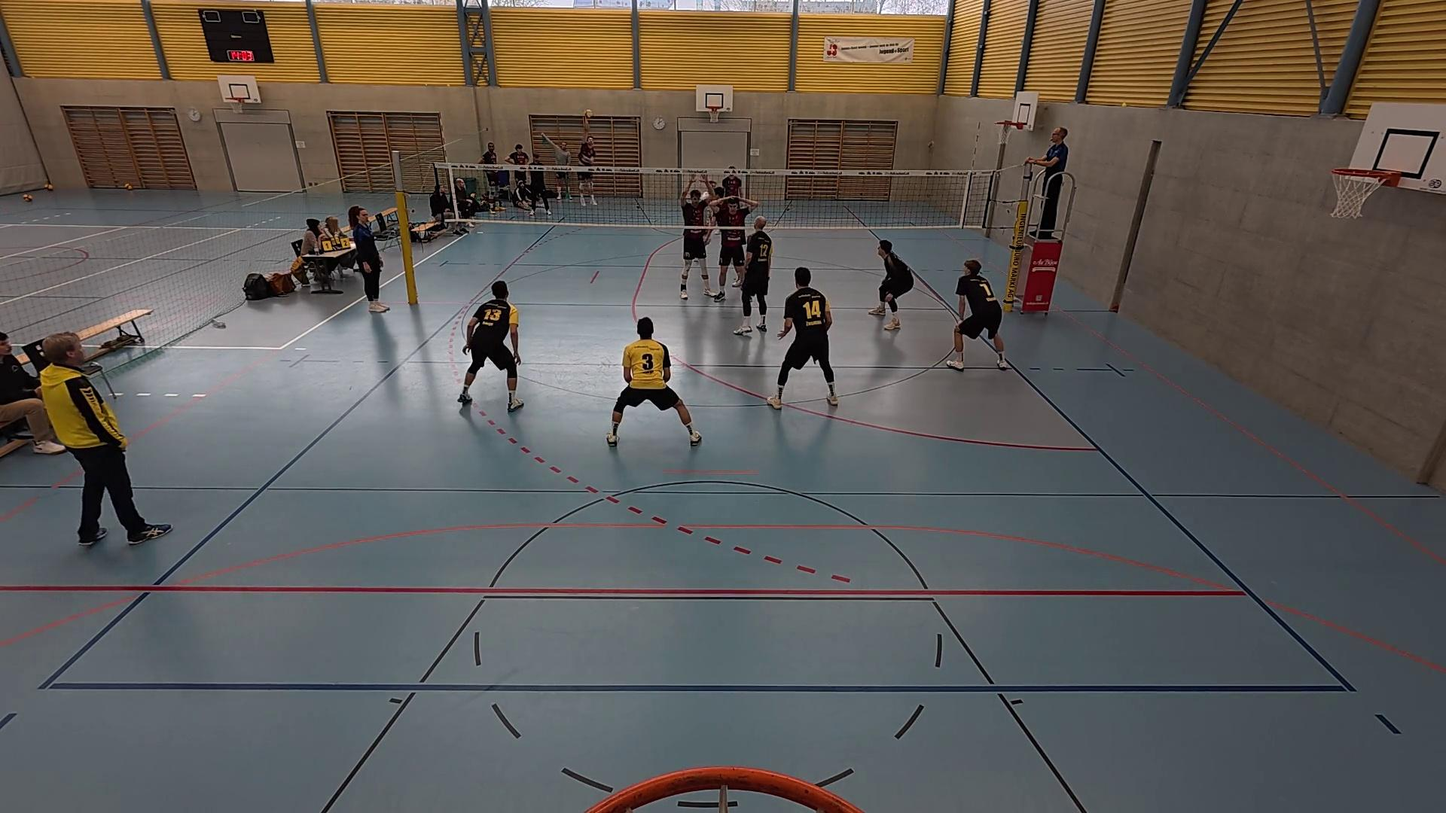Player: (606, 318, 700, 446), (768, 267, 840, 410), (456, 279, 523, 411), (946, 260, 1008, 370), (713, 192, 759, 305), (734, 217, 773, 336), (678, 172, 713, 300), (871, 240, 915, 330), (714, 164, 746, 235)
Serve: (570, 119, 599, 206)
ball: (583, 108, 593, 120)
